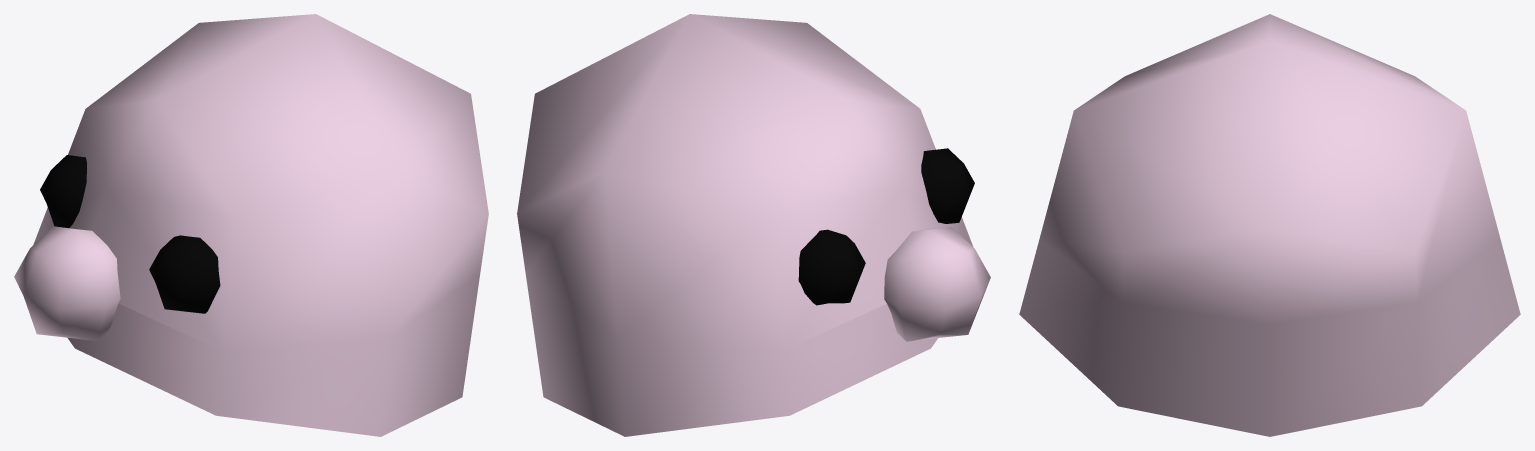
Rendered from babyHeadTop.fbx.
The picture shows the model from 3 angles, left to right: view 1: azimuth 30°, elevation 25°; view 2: azimuth 150°, elevation 25°; view 3: azimuth 270°, elevation 25°; orthographic projection. The views are drawn at different scales.
Visible parts, largest first — view 1: babyHeadTop; view 2: babyHeadTop; view 3: babyHeadTop.
Boxes of the visible parts, <box> form: babyHeadTop: <box>14,14,488,436</box>; babyHeadTop: <box>517,14,990,436</box>; babyHeadTop: <box>1019,14,1520,436</box>.
Bounding box in the file's own units: 225 × 170 × 226.
